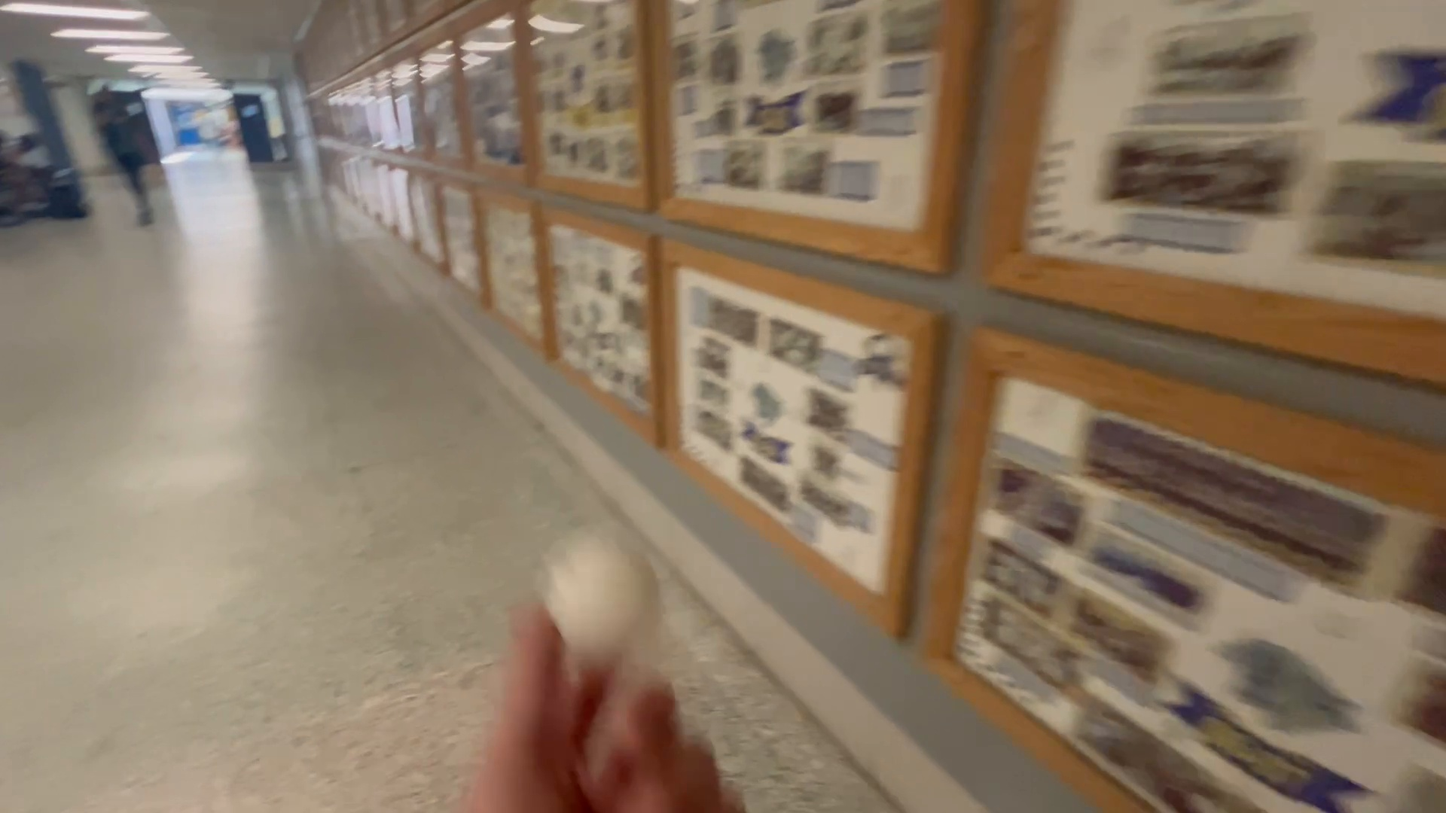Ball: (522, 545, 670, 642)
